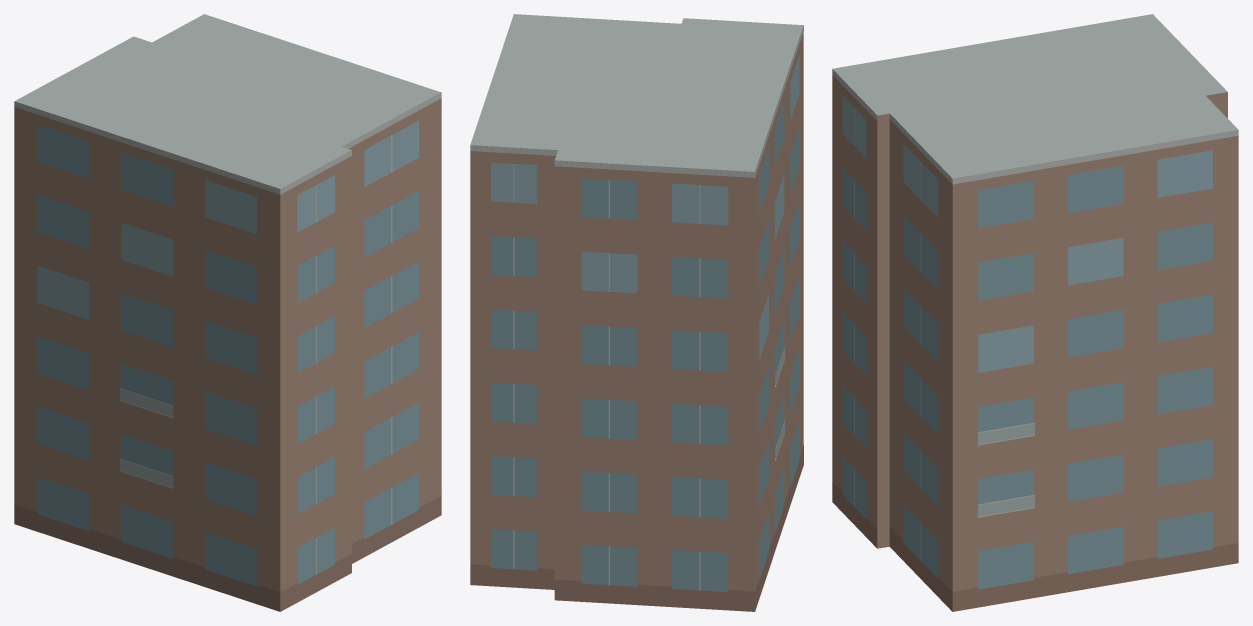
The model's file is survey-upis-32617535.glb.
3 views of the same model, side by side, from view 1: azimuth 30°, elevation 25°; view 2: azimuth 150°, elevation 25°; view 3: azimuth 270°, elevation 25° (orthographic). The views are drawn at different scales.
Visible parts, largest first — view 1: survey-upis-32617535.tmp; view 2: survey-upis-32617535.tmp; view 3: survey-upis-32617535.tmp.
Part boxes in pixels (left/top/right/bottom): survey-upis-32617535.tmp: left=14, top=14, right=441, bottom=611; survey-upis-32617535.tmp: left=470, top=14, right=803, bottom=611; survey-upis-32617535.tmp: left=832, top=14, right=1238, bottom=611.
Size of the model in its own units: 14.72 by 18.05 by 15.35.
